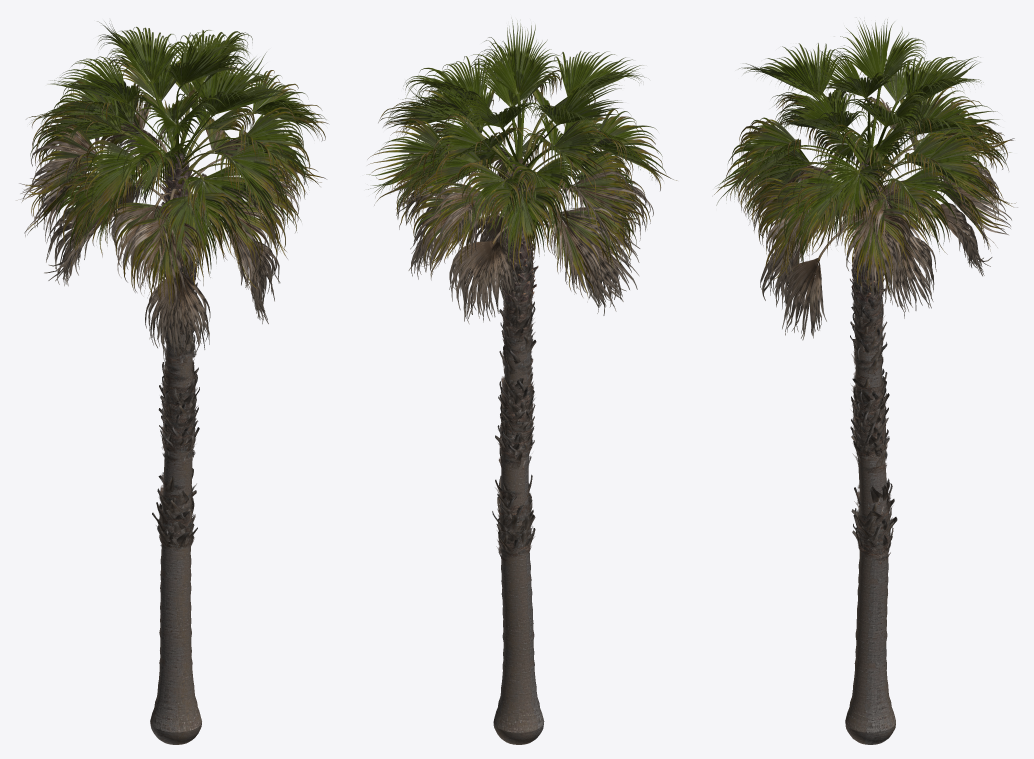
Rendered from palmier-washingtonia-1.glb.
3 views of the same model, side by side, from view 1: azimuth 30°, elevation 25°; view 2: azimuth 150°, elevation 25°; view 3: azimuth 270°, elevation 25° (orthographic). The views are drawn at different scales.
Visible parts, largest first — view 1: Washingtonia_Robusta_2; view 2: Washingtonia_Robusta_2; view 3: Washingtonia_Robusta_2.
Part boxes in pixels (<box>): Washingtonia_Robusta_2: <box>16,20,328,744</box>; Washingtonia_Robusta_2: <box>366,20,677,744</box>; Washingtonia_Robusta_2: <box>714,19,1017,744</box>.
Bounding box in the file's own units: 3.13 × 7.42 × 2.98.
Materials: 8 (8 with a texture image).
